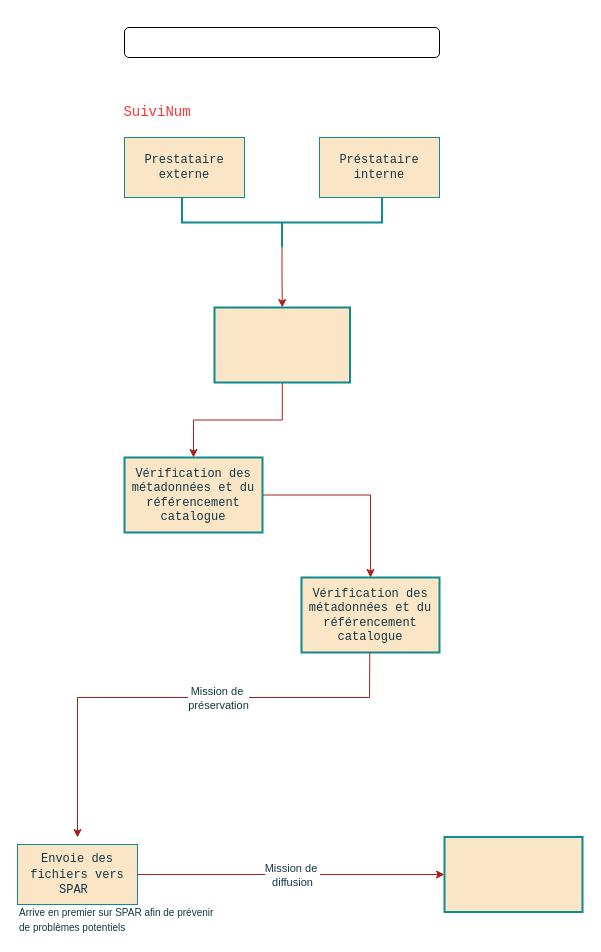
The diagram is 601 pixels wide and 952 high, and some of its shapes have lost their labels. Here are the shapes that lost their labels. From the top down, the centre of each, then its label:
point (282, 42): Schéma de la Chaine d'entrée
point (281, 344): Réception des documents numérisés (fichiers de métadonnées et images)
point (513, 874): Diffusion sur Gallica
